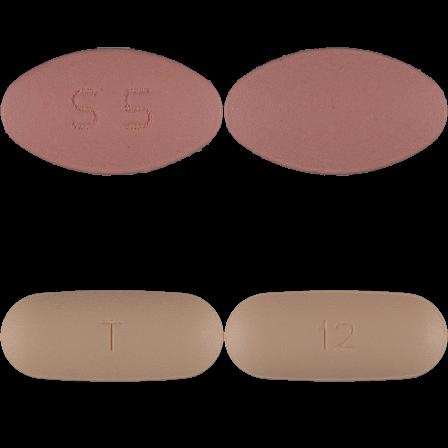35356-781: (0, 0, 224, 224)
